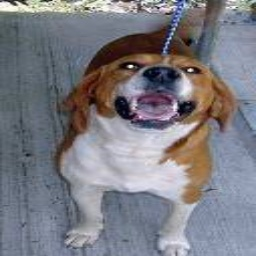dog: (59, 28, 231, 256)
